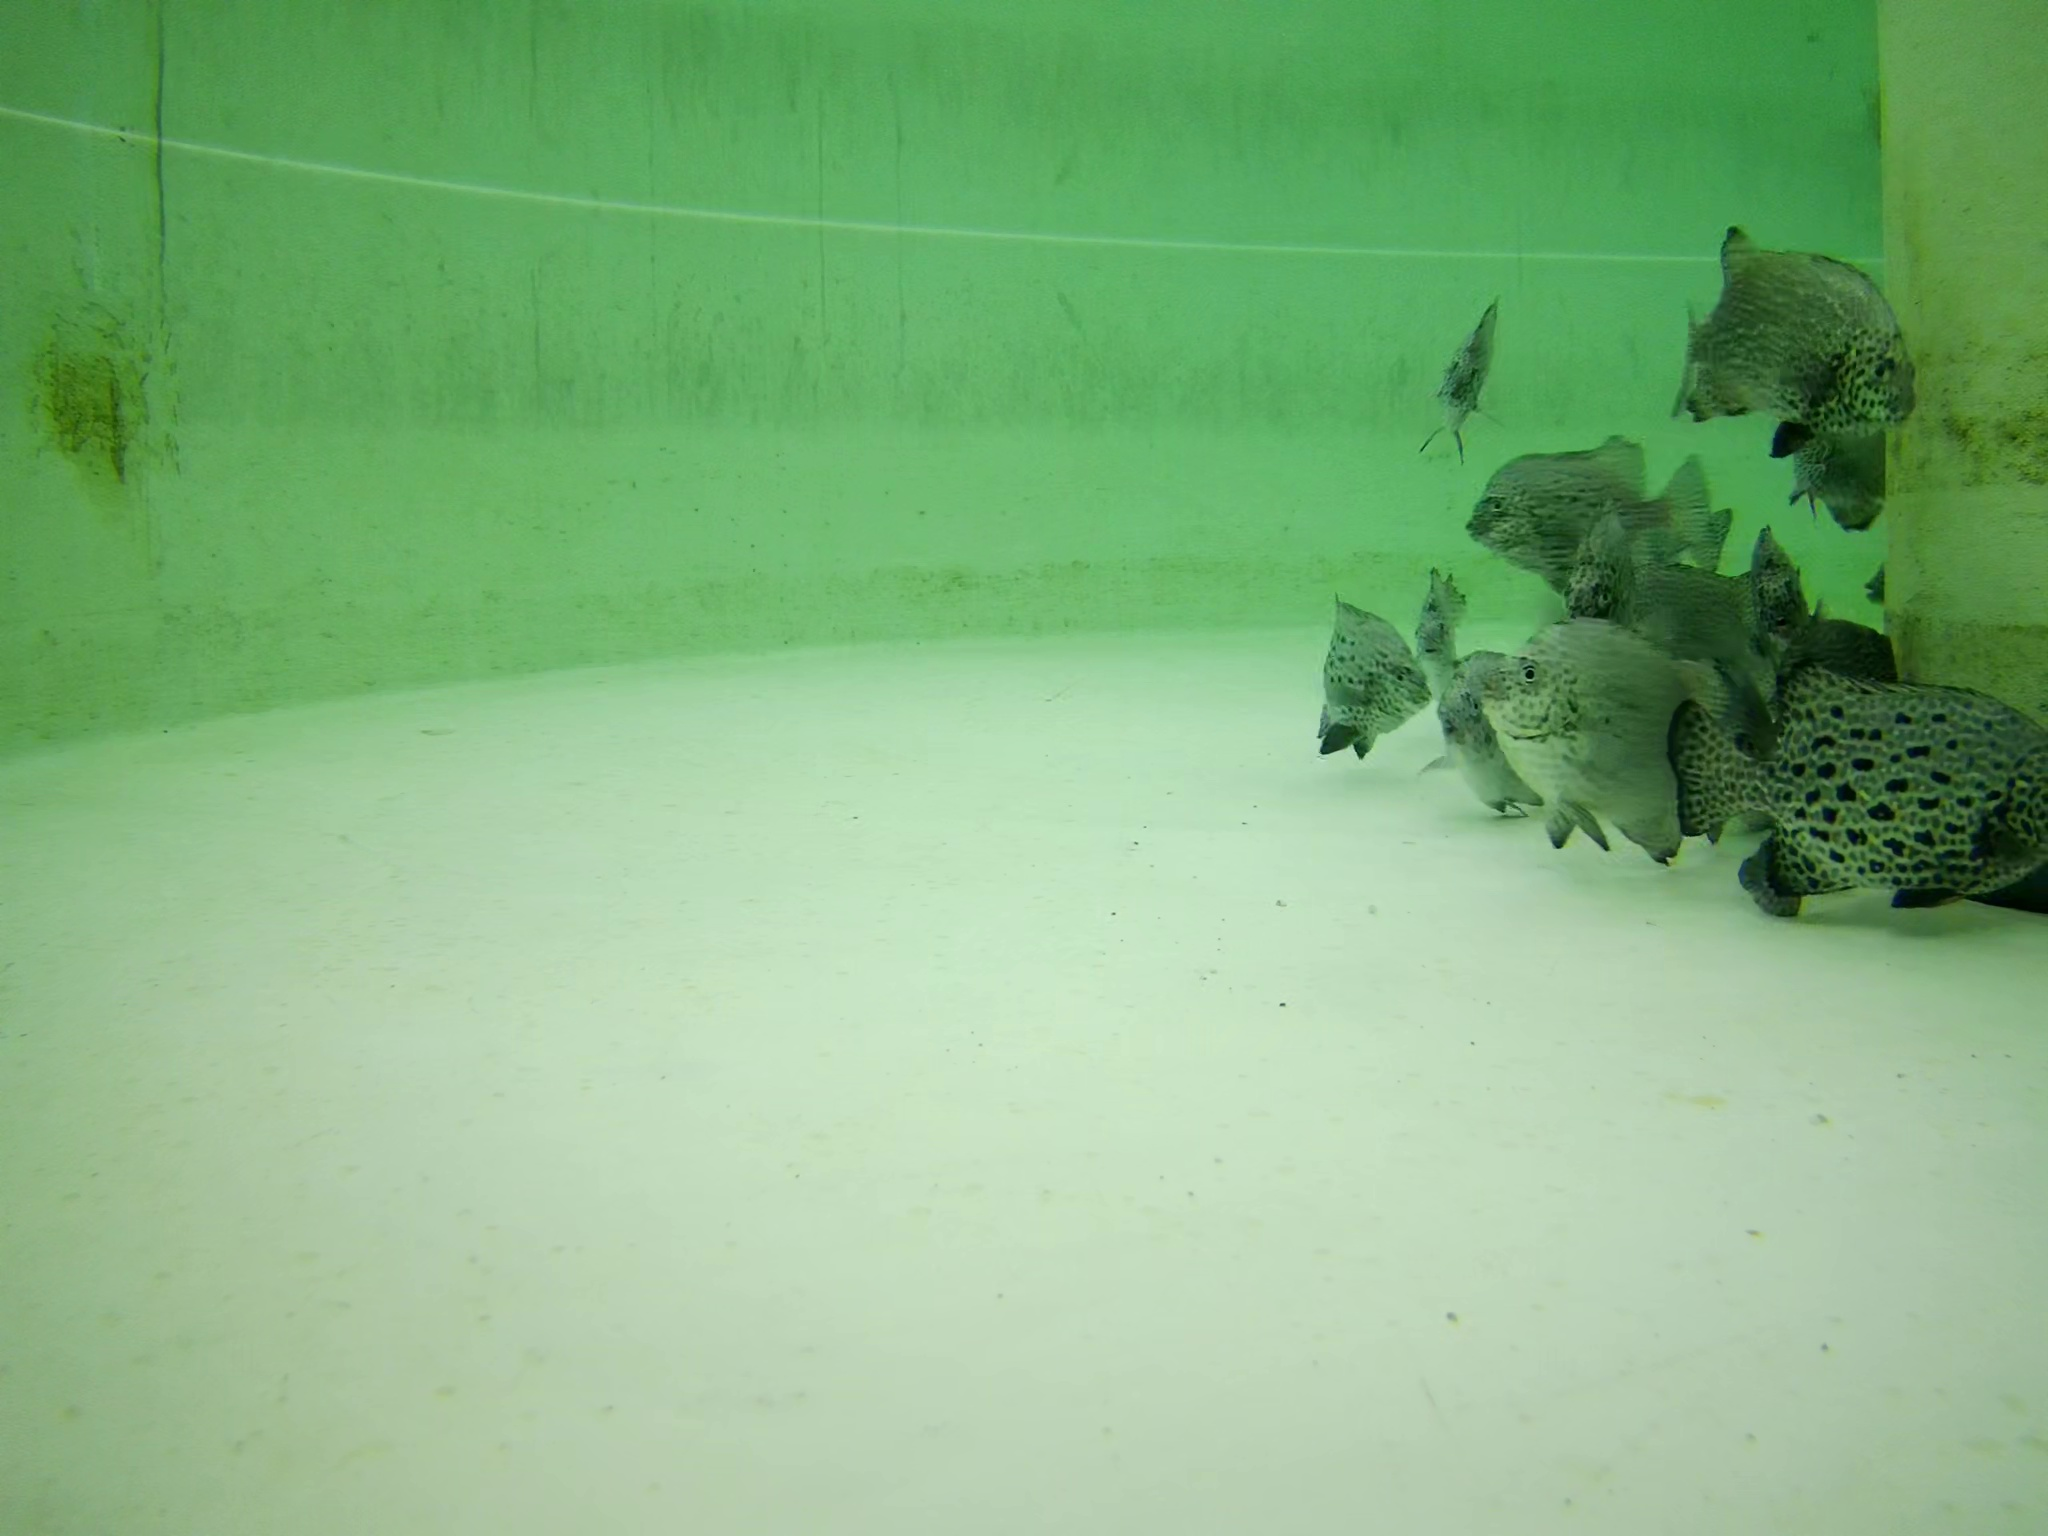fish: (1679, 662, 2048, 933), (1472, 615, 1766, 879), (1671, 227, 1924, 445), (1463, 442, 1724, 566), (1314, 591, 1426, 753), (1437, 647, 1529, 820), (1417, 271, 1498, 460), (1408, 553, 1471, 728), (1745, 532, 1813, 686), (1800, 416, 1882, 539), (1567, 503, 1638, 624)
